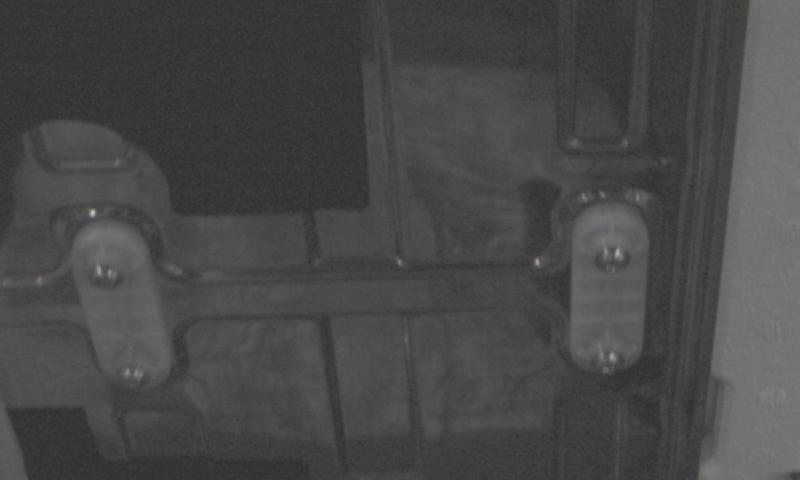vida-ok: (594, 232, 638, 277), (87, 249, 127, 294), (111, 355, 153, 395), (587, 340, 627, 378)
